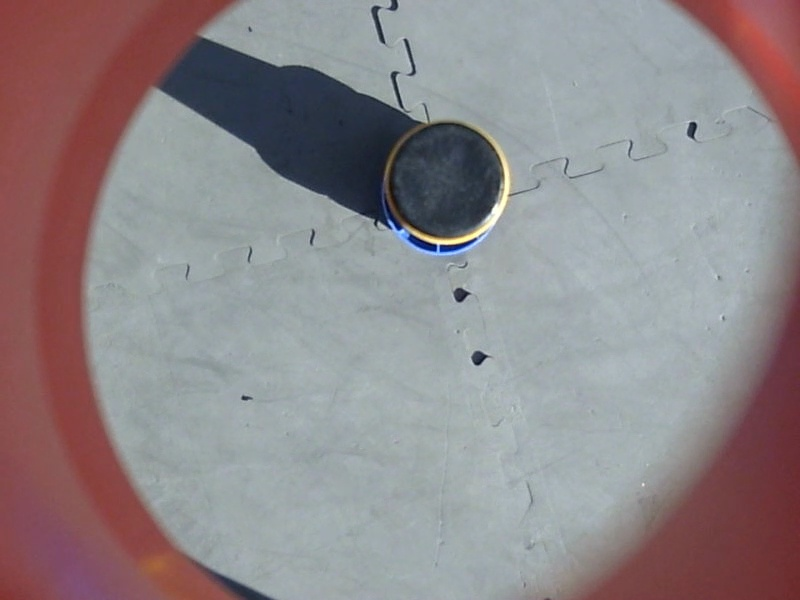tip: (375, 110, 521, 251)
